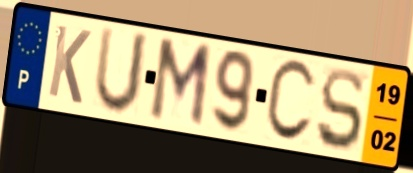9: (209, 49, 257, 135)
C: (262, 57, 318, 146)
K: (45, 21, 94, 107)
M: (146, 36, 215, 132)
S: (314, 66, 366, 154)
U: (91, 24, 152, 118)
